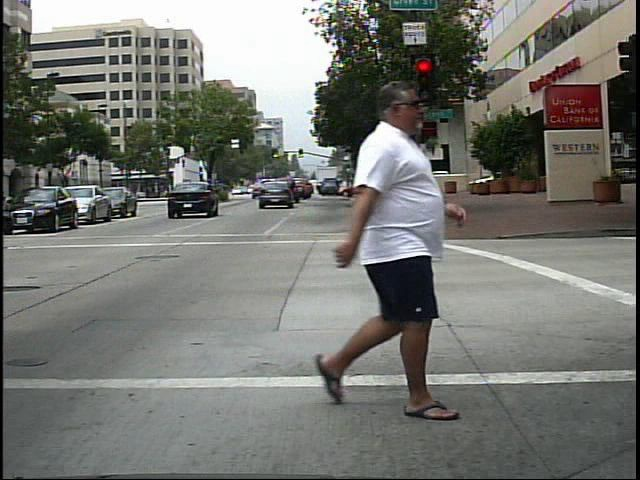person: (299, 75, 468, 423)
